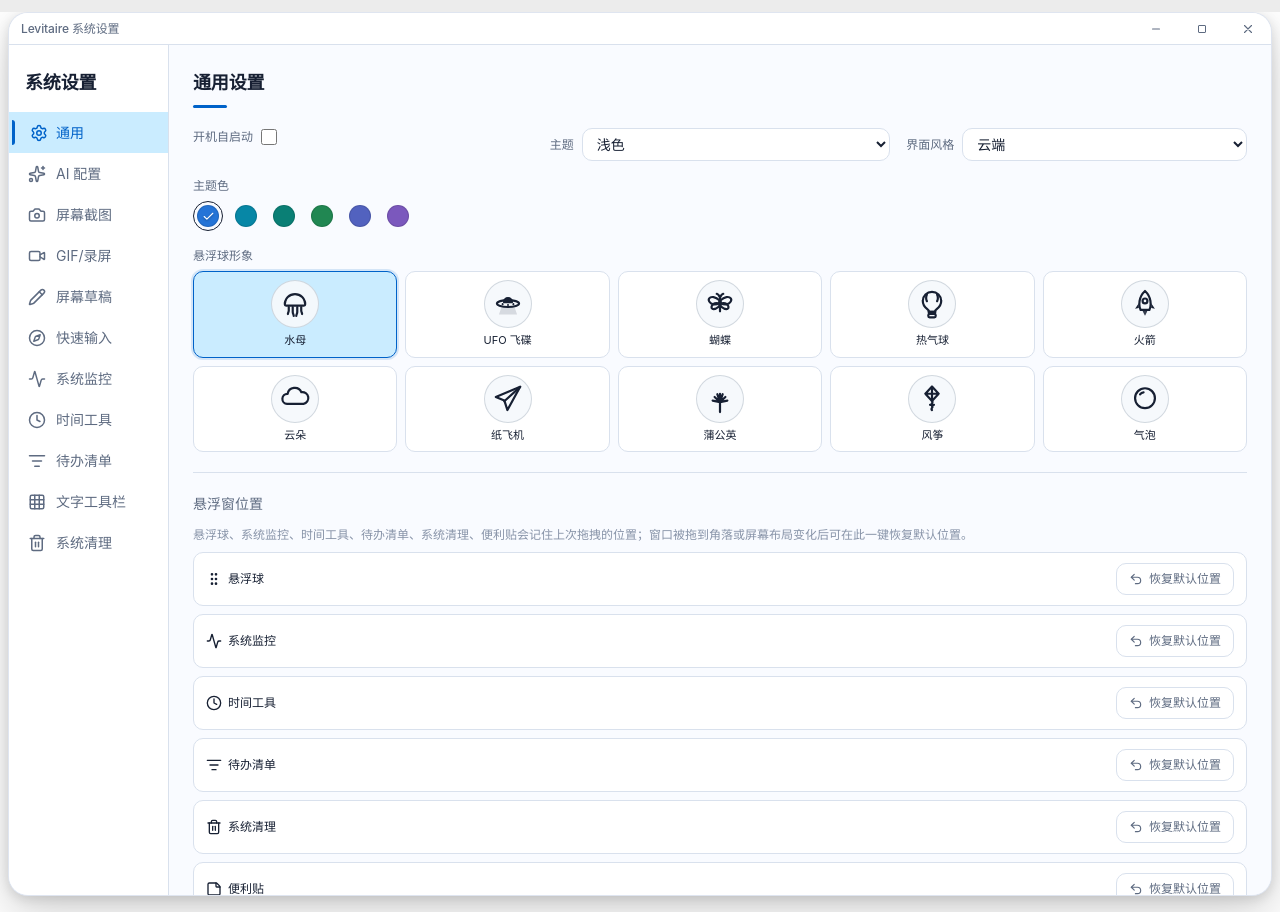
it: Settings 悬浮窗位置恢复 › 恢复失败时按钮显示失败反馈
Click the 1st button "恢复默认位置" at (1175, 579), box [1116,563,1234,595]
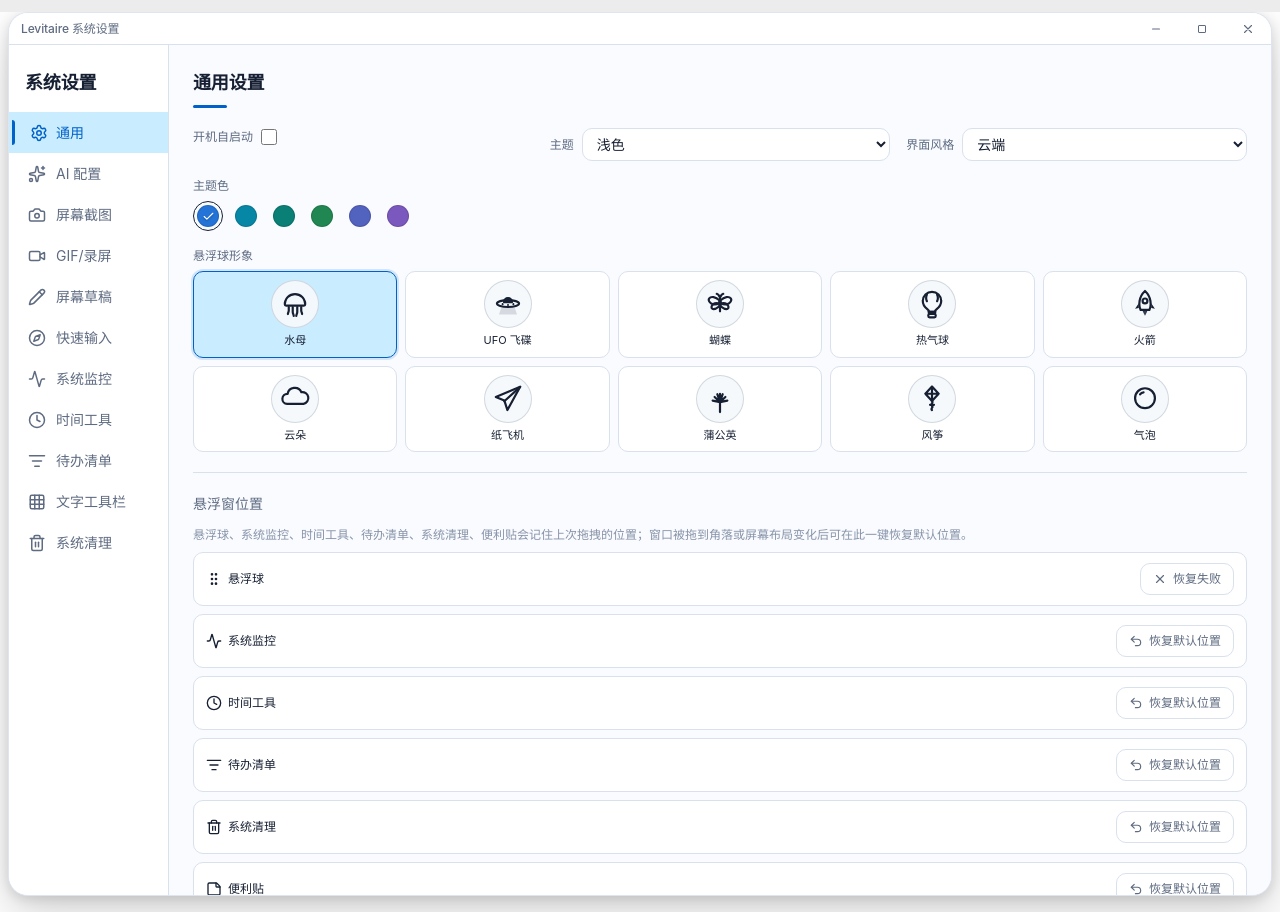
Expected: the button "恢复失败" is shown, [1140,563,1234,595]
